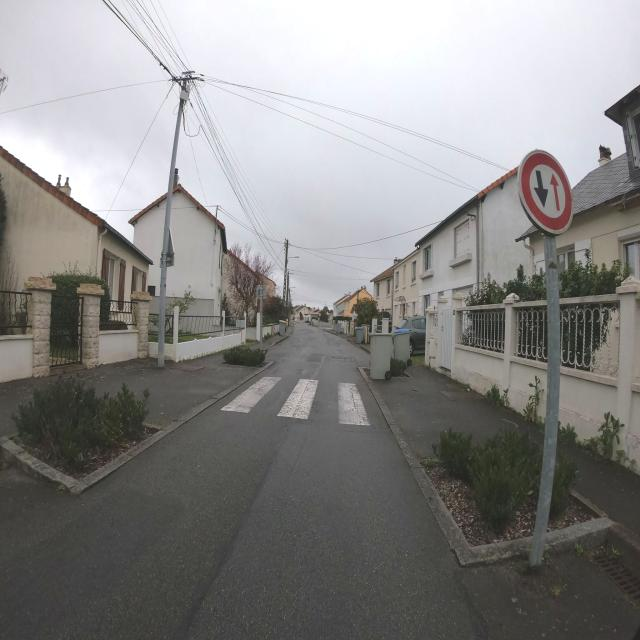car: (392, 315, 427, 352)
